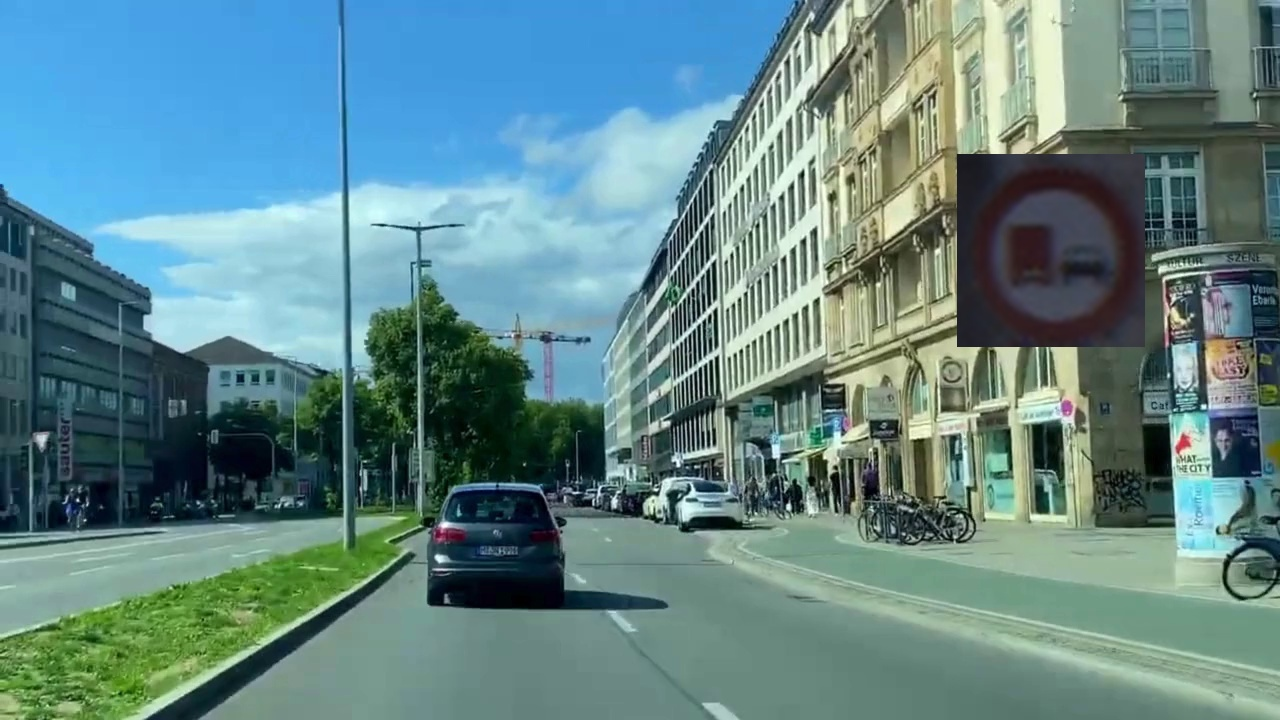No pass >3.5t: (957, 154, 1145, 347)
